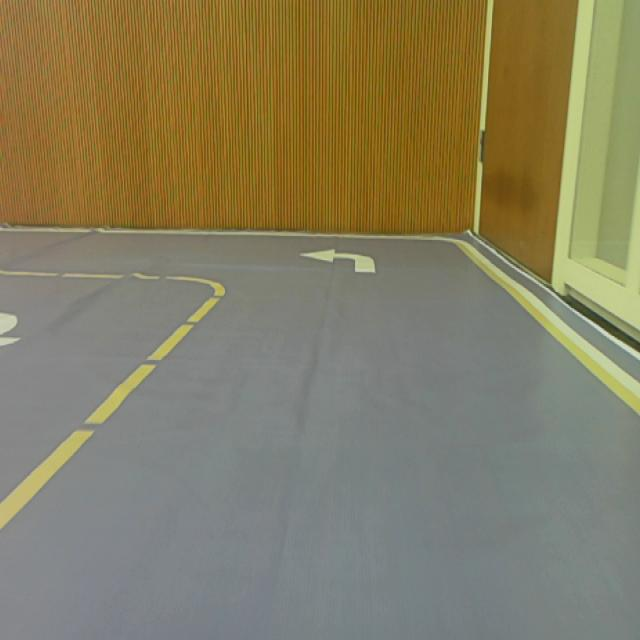left_lane: (0, 291, 228, 532)
right_lane: (457, 246, 640, 417)
